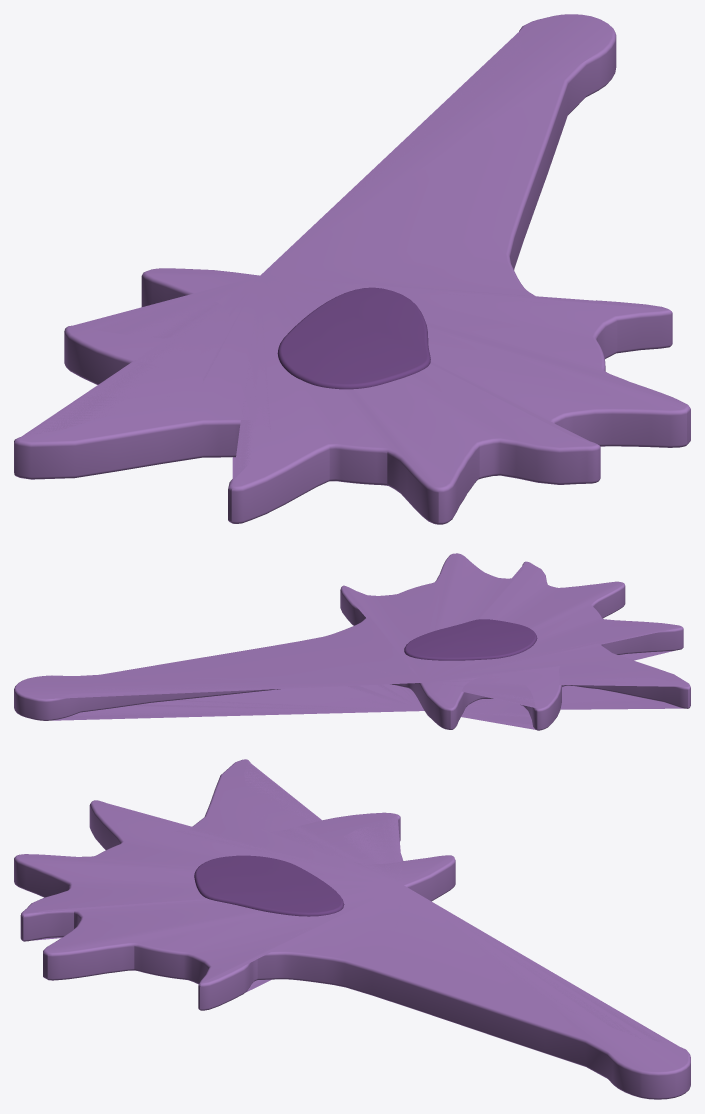
The model's file is Dendritt.fbx.
3 views of the same model, one above another, from view 1: azimuth 30°, elevation 25°; view 2: azimuth 150°, elevation 25°; view 3: azimuth 270°, elevation 25° (orthographic). The views are drawn at different scales.
Parts seen in each view (by area): view 1: Cylinder.103, Cylinder.104; view 2: Cylinder.103, Cylinder.104; view 3: Cylinder.103, Cylinder.104.
Boxes of the visible parts, box(x1,y1,x2,y2) form: Cylinder.103: box(14, 14, 690, 524); Cylinder.104: box(277, 287, 430, 389); Cylinder.103: box(14, 553, 690, 730); Cylinder.104: box(404, 619, 537, 660); Cylinder.103: box(14, 759, 690, 1099); Cylinder.104: box(194, 855, 344, 916).
Size of the model in its own units: 492 by 24 by 447.
